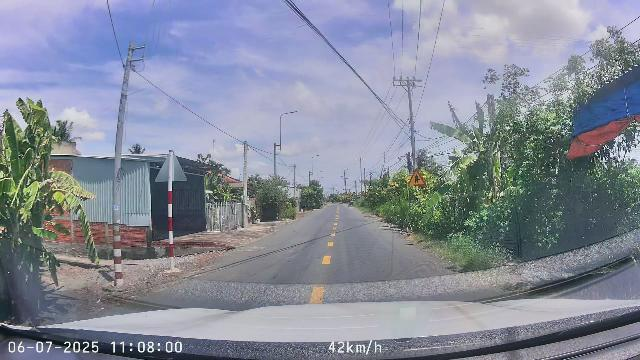207-giao-nhau-voi-duong-khong-uu-tien: (408, 169, 426, 186)
